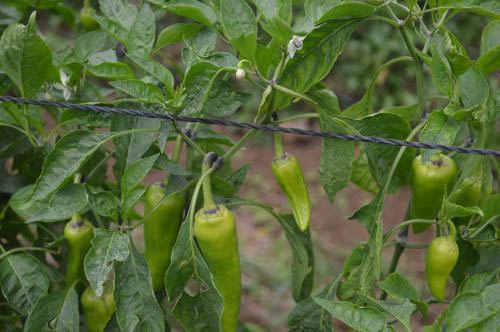ChiliPepper: (193, 210, 245, 332), (145, 183, 182, 290), (411, 158, 451, 237), (273, 154, 313, 232), (65, 224, 95, 289), (427, 237, 457, 302), (458, 178, 492, 235), (81, 292, 116, 329)
